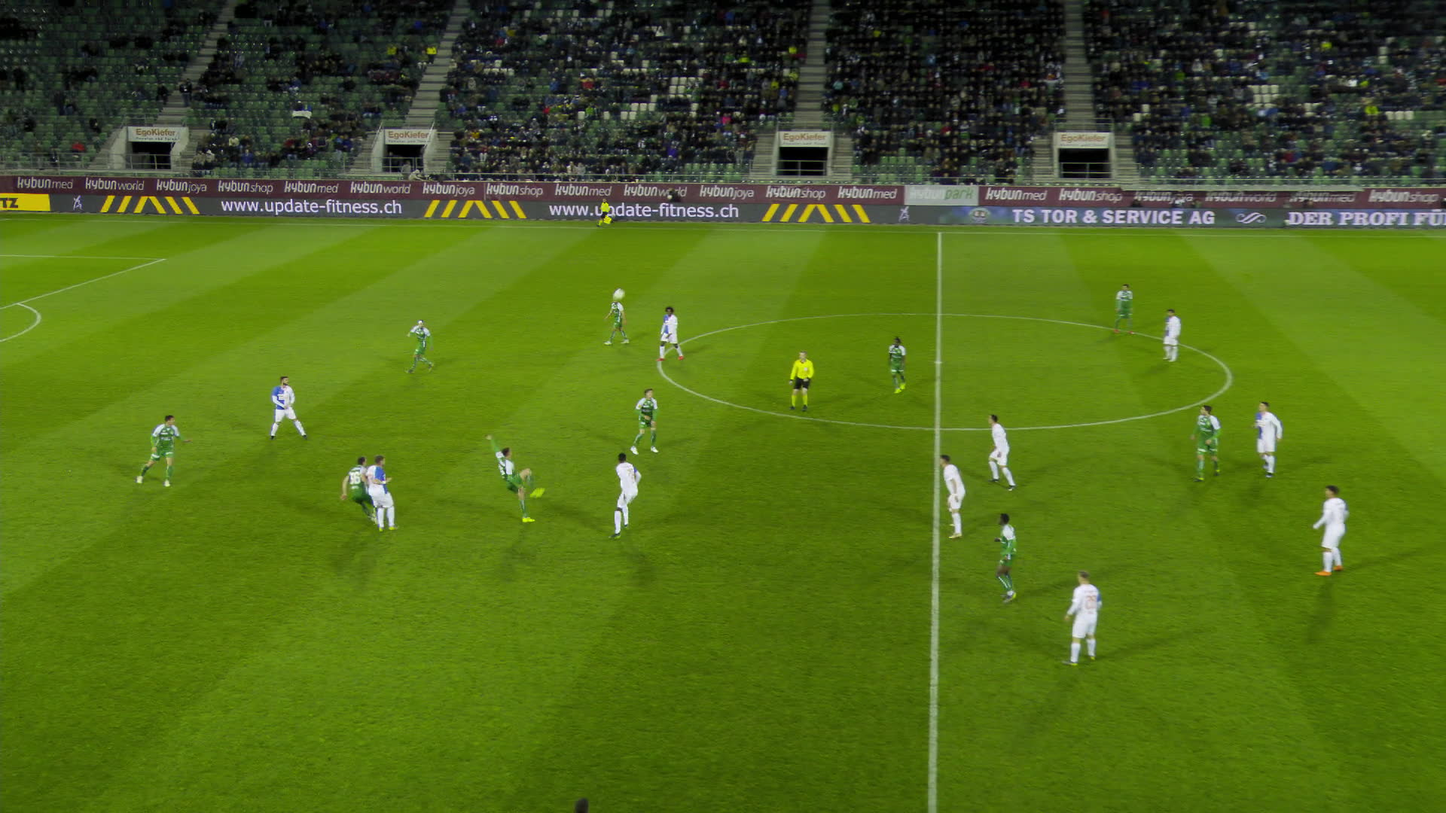ball: (607, 292, 621, 305)
player: (480, 441, 545, 519), (1057, 569, 1098, 665), (1307, 484, 1345, 575), (986, 513, 1022, 602), (143, 413, 187, 485), (360, 454, 395, 535), (335, 456, 375, 526), (609, 452, 640, 537), (1187, 401, 1219, 479), (1246, 398, 1277, 476), (935, 453, 962, 536), (982, 413, 1011, 490), (268, 373, 301, 439), (627, 388, 656, 455), (652, 305, 680, 360), (404, 319, 431, 373), (883, 336, 908, 391), (1155, 308, 1178, 361), (603, 296, 626, 345), (1108, 283, 1130, 333)
referee: (783, 350, 811, 411), (596, 197, 609, 227)
